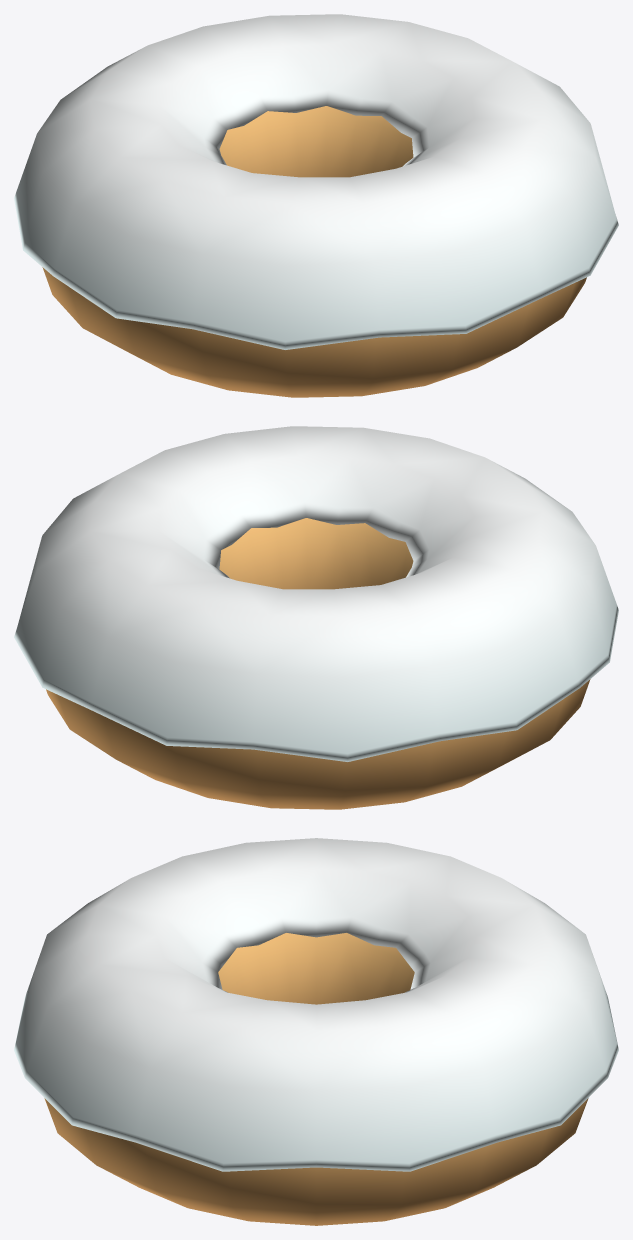
File: donut_white.fbx
3 renders of one model, top to bottom at view 1: azimuth 30°, elevation 25°; view 2: azimuth 150°, elevation 25°; view 3: azimuth 270°, elevation 25°, orthographic.
Parts seen in each view (by area): view 1: donut_white; view 2: donut_white; view 3: donut_white.
Boxes of the visible parts, bbox=[...] form: donut_white: bbox=[14, 14, 618, 397]; donut_white: bbox=[14, 426, 618, 809]; donut_white: bbox=[14, 838, 618, 1225].
Size of the model in its own units: 93.8 by 33.51 by 92.52.
